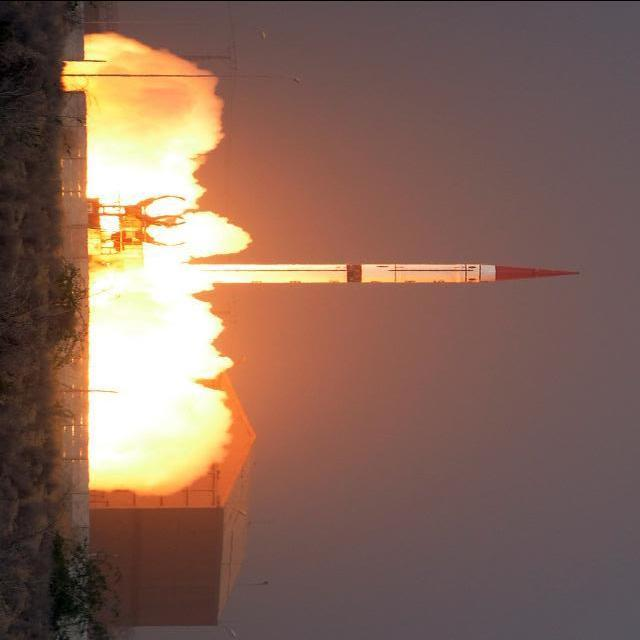Missile: (150, 255, 600, 288)
